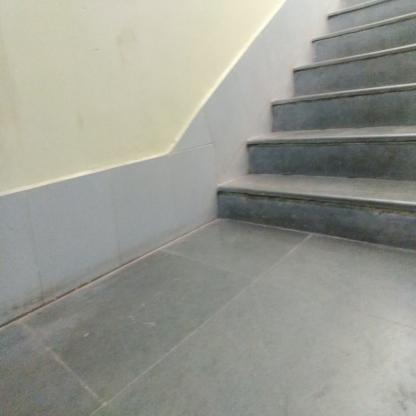stairs: (315, 33, 416, 261)
